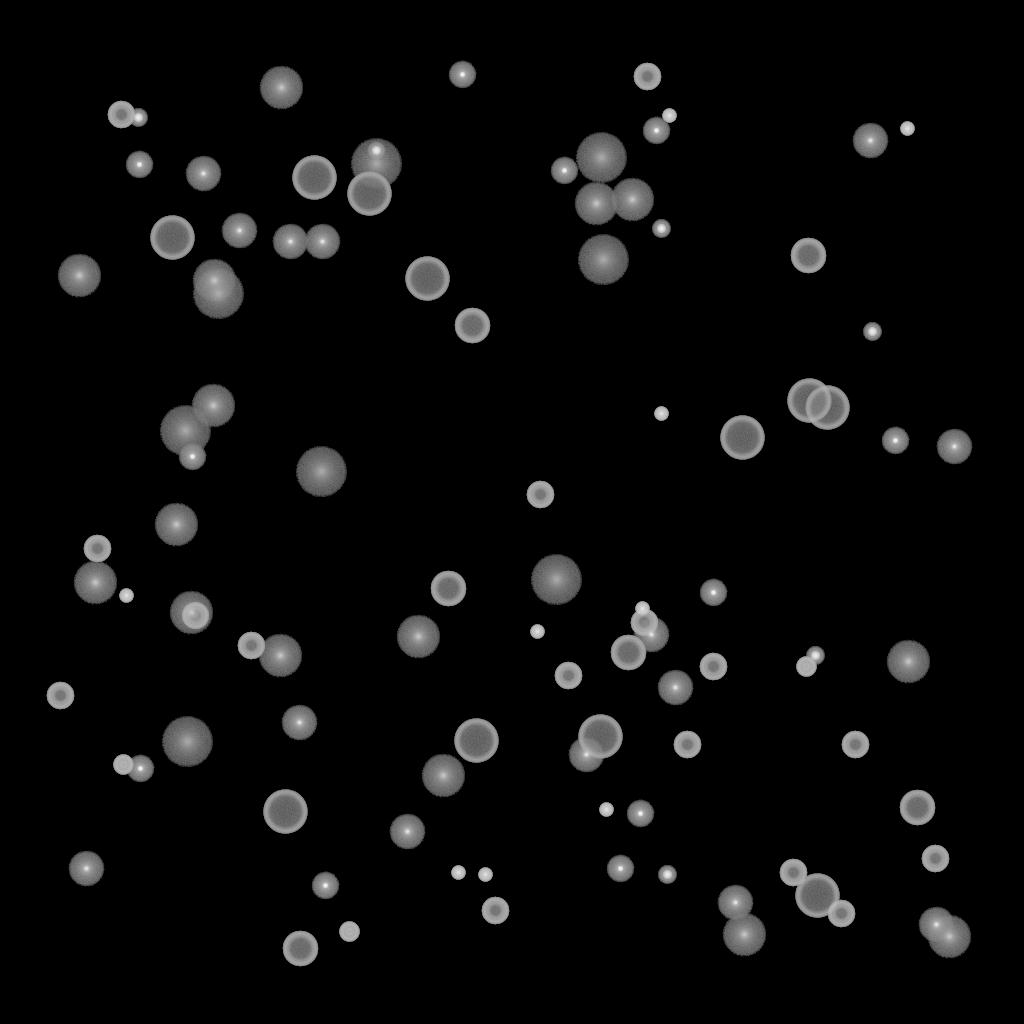depth:-10: (699, 579, 727, 607), (642, 117, 670, 145), (178, 443, 206, 471), (311, 872, 339, 900), (606, 855, 634, 883), (881, 427, 909, 455), (550, 157, 578, 185), (125, 151, 153, 179), (448, 61, 476, 89), (626, 800, 654, 828), (126, 755, 154, 783)
depth:-20: (367, 142, 385, 160), (652, 220, 670, 238), (806, 647, 824, 665), (863, 323, 881, 341), (129, 109, 147, 127), (658, 866, 676, 884)
depth:-30: (635, 602, 649, 616), (654, 407, 668, 421), (530, 625, 544, 639), (119, 589, 133, 603), (900, 122, 914, 136), (599, 803, 613, 817), (662, 109, 676, 123), (451, 866, 465, 880), (478, 868, 492, 882)
depth:-40: (113, 755, 133, 775), (796, 657, 816, 677), (339, 922, 359, 942)
depth:-50: (633, 63, 661, 91), (181, 602, 209, 630), (83, 535, 111, 563), (827, 900, 855, 928), (554, 662, 582, 690), (481, 897, 509, 925), (841, 731, 869, 759), (526, 481, 554, 509), (237, 632, 265, 660), (921, 845, 949, 873), (673, 731, 701, 759), (699, 653, 727, 681), (630, 609, 658, 637), (46, 682, 74, 710), (107, 101, 135, 129), (779, 859, 807, 887)
depth:-60: (899, 790, 935, 826), (790, 238, 826, 274), (454, 308, 490, 344), (610, 635, 646, 671), (282, 931, 318, 967), (430, 571, 466, 607)
depth:-70: (150, 216, 194, 260), (795, 874, 839, 918), (787, 379, 831, 423), (405, 257, 449, 301), (292, 156, 336, 200), (578, 715, 622, 759), (454, 719, 498, 763), (347, 172, 391, 216), (263, 790, 307, 834), (805, 386, 849, 430), (720, 416, 764, 460)
depth:0: (272, 224, 308, 260), (657, 670, 693, 706), (281, 705, 317, 741), (633, 617, 669, 653), (918, 907, 954, 943), (304, 224, 340, 260), (68, 851, 104, 887), (717, 885, 753, 921), (221, 213, 257, 249), (852, 123, 888, 159), (185, 156, 221, 192), (389, 814, 425, 850), (936, 429, 972, 465), (568, 737, 604, 773)
depth:10: (191, 384, 235, 428), (396, 615, 440, 659), (927, 915, 971, 959), (154, 503, 198, 547), (421, 754, 465, 798), (73, 561, 117, 605), (259, 66, 303, 110), (192, 259, 236, 303), (574, 182, 618, 226), (258, 634, 302, 678), (886, 640, 930, 684), (610, 178, 654, 222), (722, 913, 766, 957), (169, 591, 213, 635), (57, 254, 101, 298)
depth:20: (159, 406, 211, 456), (192, 269, 244, 319), (577, 235, 629, 285), (575, 133, 627, 183), (161, 717, 213, 767), (350, 139, 402, 189), (295, 447, 347, 497), (530, 555, 582, 605)
